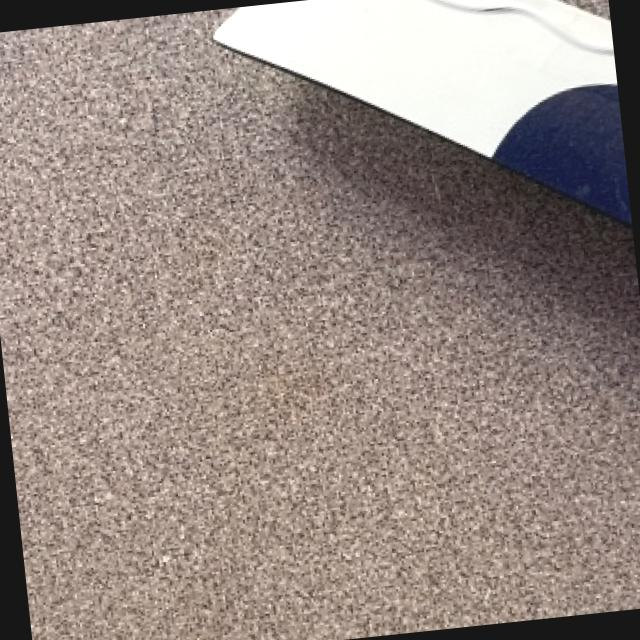healthy: (212, 0, 629, 221)
